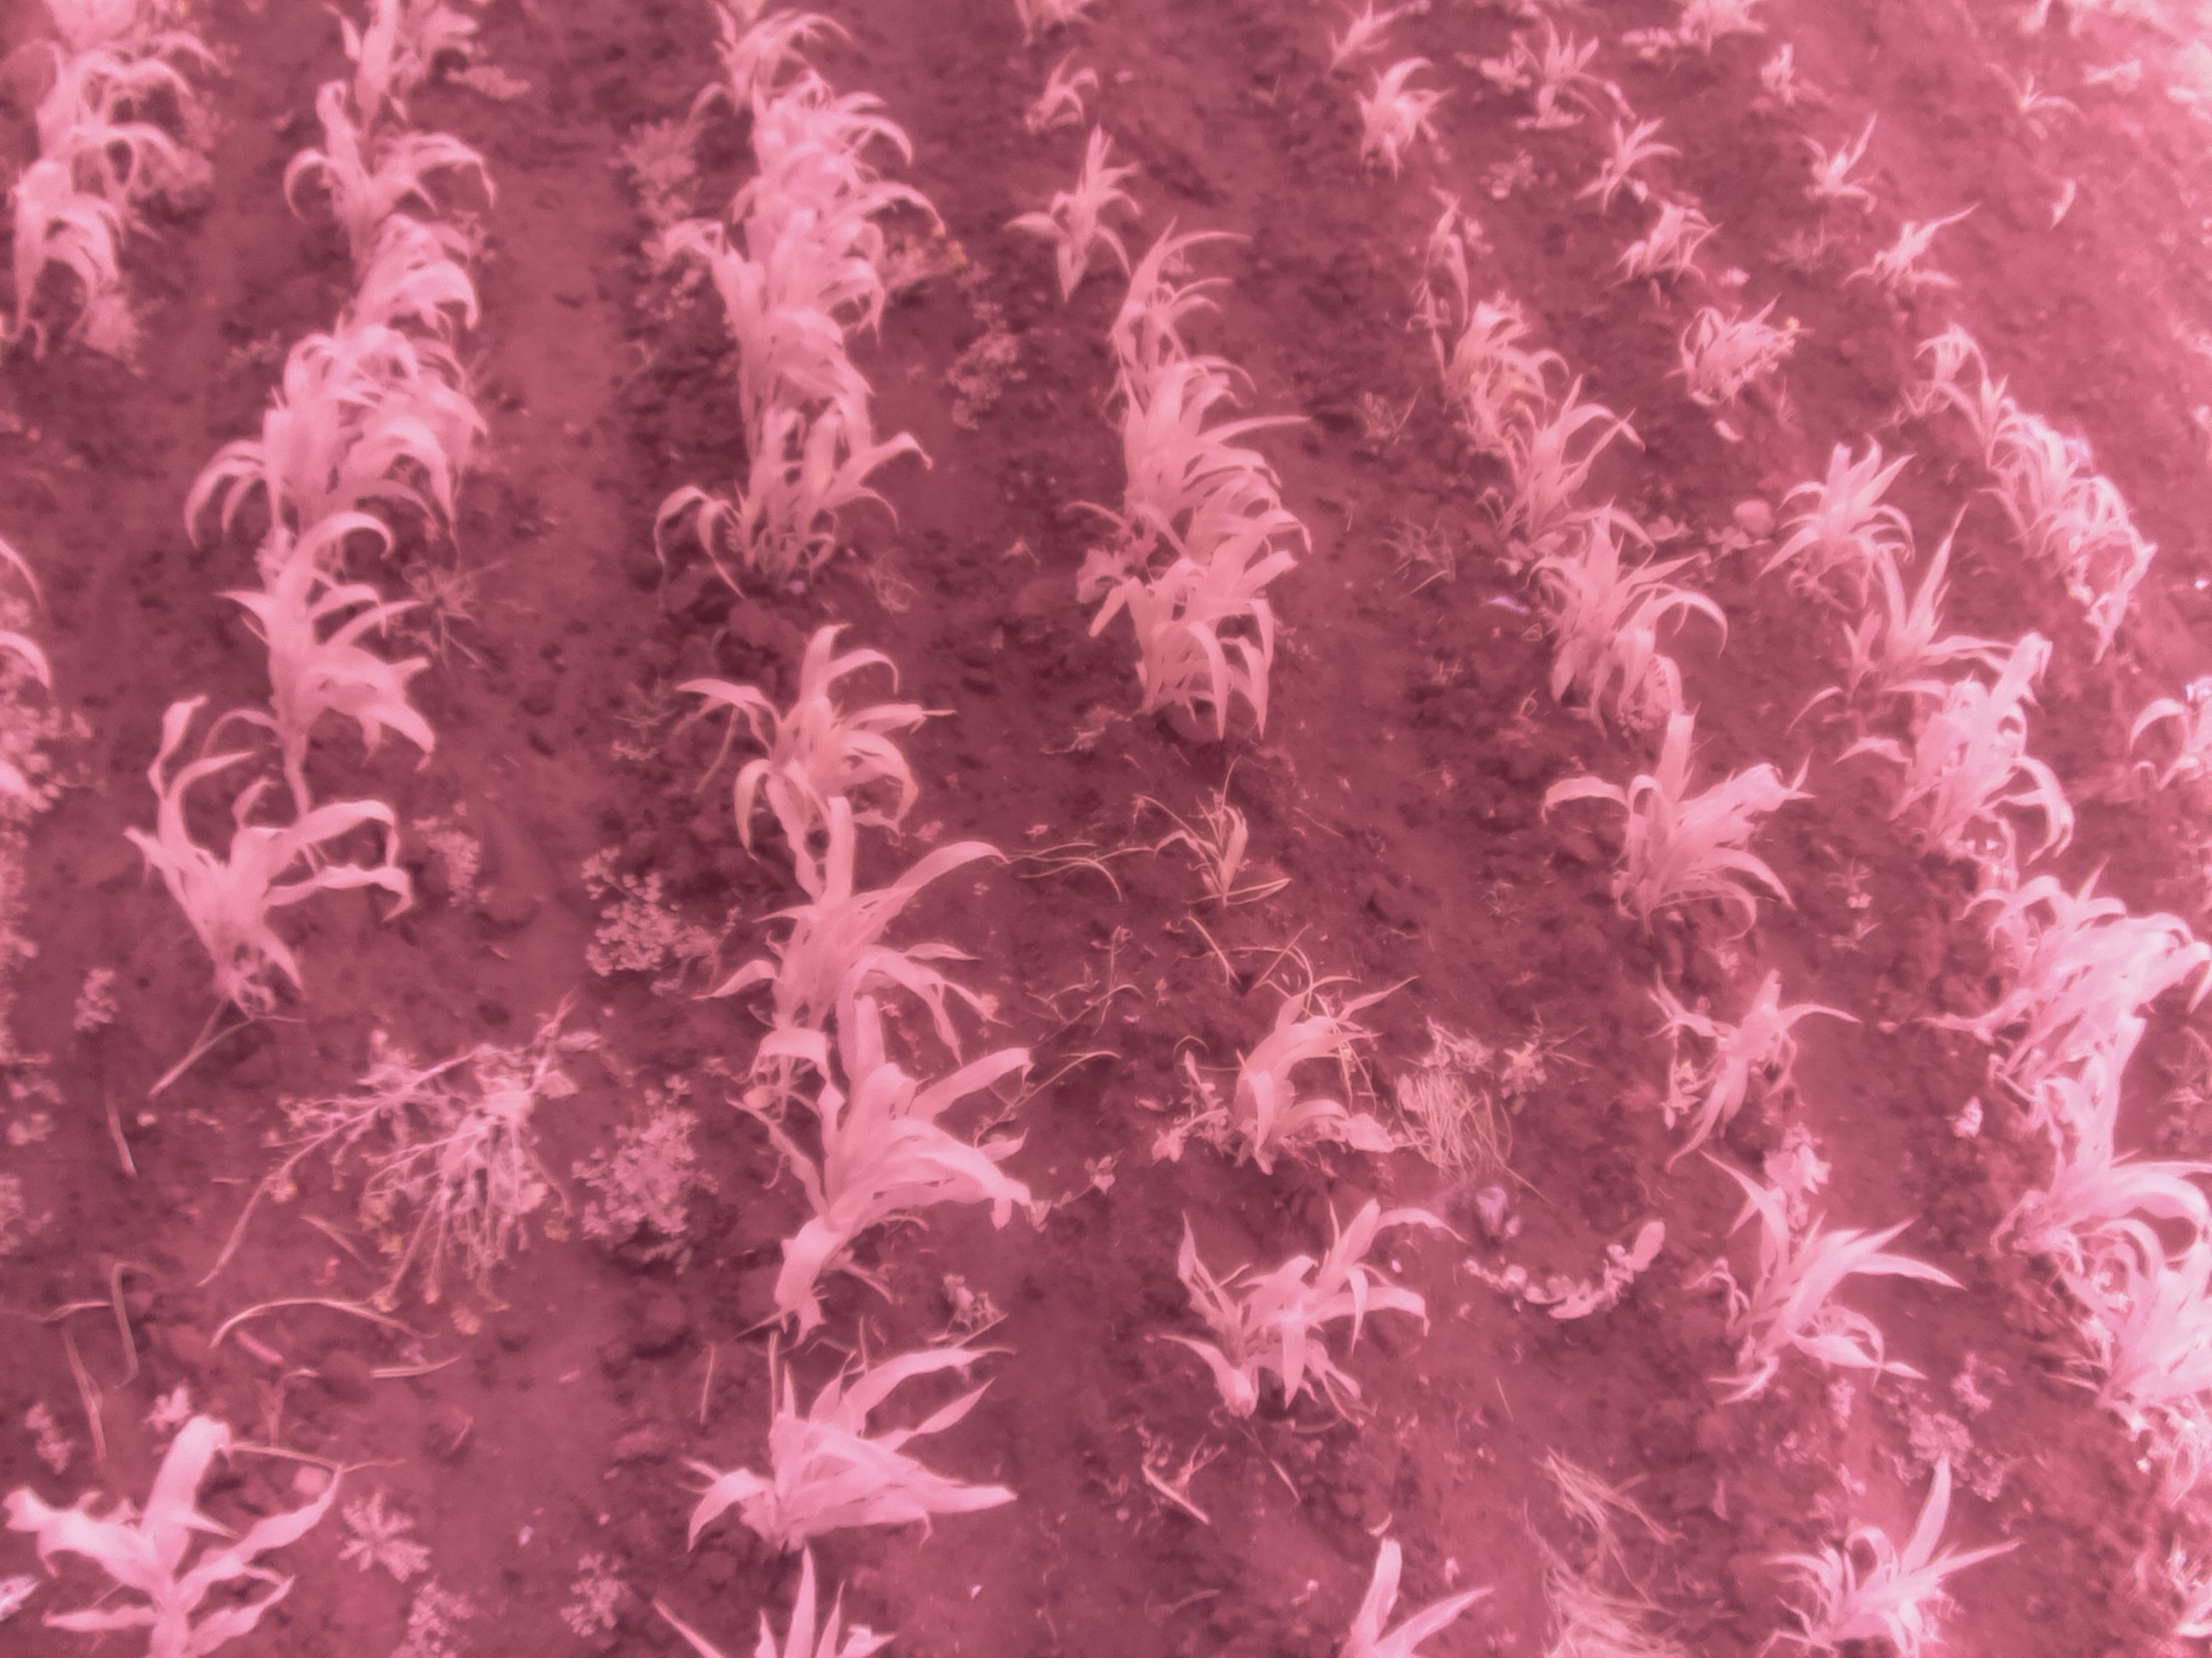Maiz: (87, 686, 408, 1033), (7, 1418, 338, 1656), (1667, 1144, 1963, 1407), (744, 1055, 1038, 1306), (752, 796, 1017, 1075), (193, 514, 456, 792), (671, 1339, 1021, 1547), (1153, 1212, 1463, 1418), (664, 632, 939, 853), (1540, 719, 1815, 937), (1994, 866, 2203, 1149), (1874, 604, 2074, 886), (200, 341, 441, 566), (1780, 1451, 2029, 1658), (1627, 961, 1858, 1183), (1512, 509, 1726, 735), (263, 75, 503, 270), (2010, 1071, 2205, 1310), (686, 232, 864, 488), (272, 251, 479, 468), (730, 160, 928, 387), (726, 91, 904, 334), (1177, 991, 1395, 1184), (1090, 340, 1264, 576), (1824, 496, 1994, 726), (1125, 521, 1284, 742), (728, 411, 913, 590), (629, 1547, 895, 1658), (33, 23, 178, 226), (5, 139, 122, 387), (1775, 428, 1935, 608), (1475, 394, 1642, 564), (1001, 131, 1146, 319), (1397, 251, 1561, 414), (329, 0, 488, 153), (2109, 1212, 2212, 1426), (1331, 1524, 1493, 1658), (1322, 52, 1468, 199), (2003, 392, 2107, 596), (702, 2, 838, 153), (1106, 223, 1235, 373), (1676, 287, 1797, 435), (1179, 787, 1292, 925), (1494, 24, 1609, 146), (1583, 94, 1679, 228), (1946, 331, 2038, 468), (986, 44, 1106, 145), (1862, 212, 1982, 305), (1402, 199, 1477, 341), (2071, 517, 2148, 650), (1629, 192, 1723, 298), (1989, 49, 2080, 152), (2141, 644, 2212, 765), (1797, 125, 1886, 206), (1324, 0, 1411, 80), (1911, 305, 1973, 408), (1757, 40, 1815, 117), (2047, 169, 2099, 240)
